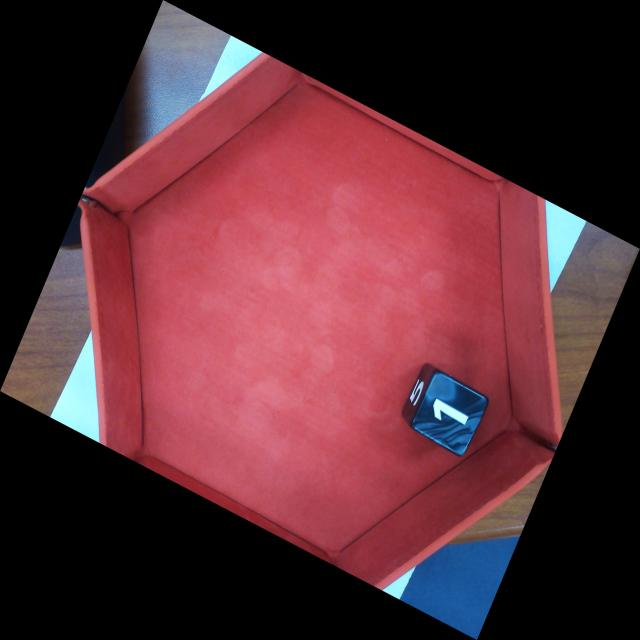dice: (411, 372, 490, 461)
